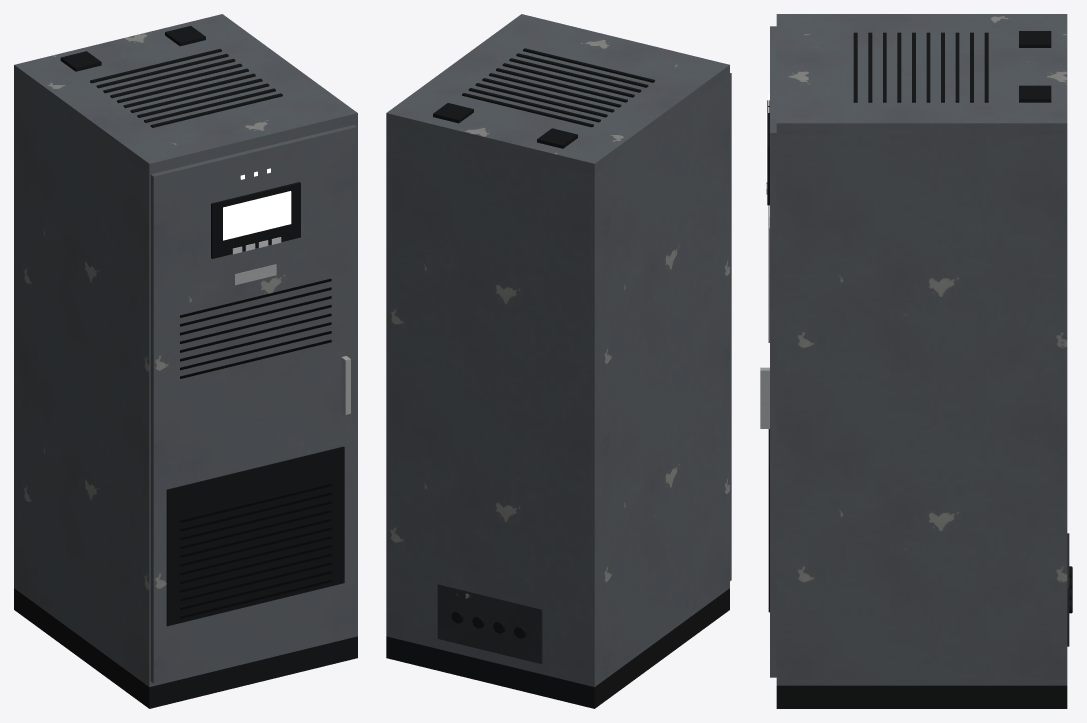
File: ups-cabinet.glb
3 renders of one model, left to right at view 1: azimuth 30°, elevation 25°; view 2: azimuth 150°, elevation 25°; view 3: azimuth 270°, elevation 25°, orthographic. The views are drawn at different scales.
Visible parts, largest first — view 1: ups-cabinet; view 2: ups-cabinet; view 3: ups-cabinet.
Part boxes in pixels (left/top/right/bottom): ups-cabinet: left=14, top=14, right=357, bottom=708; ups-cabinet: left=386, top=14, right=731, bottom=708; ups-cabinet: left=760, top=14, right=1072, bottom=708.
Bounding box in the file's own units: 0.8 × 2.01 × 0.9661.
Materials: 7 (4 with a texture image).
